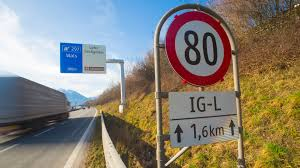Speed_limit_80km: (165, 12, 231, 84)
